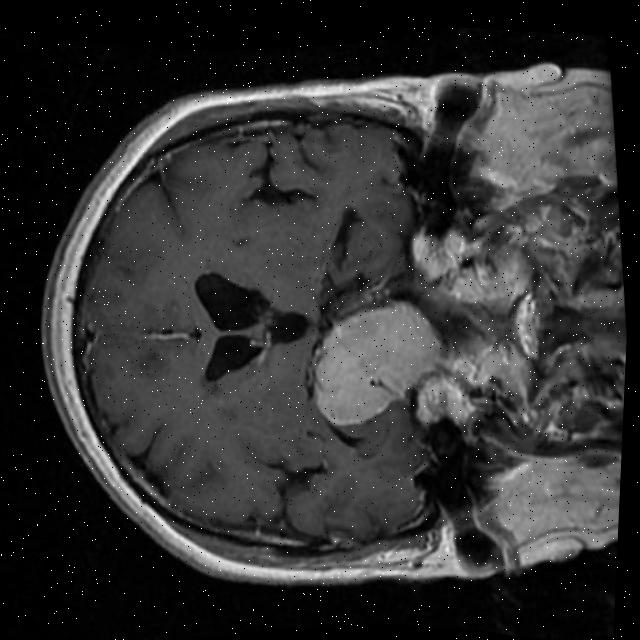Meningioma: (301, 288, 453, 435)
